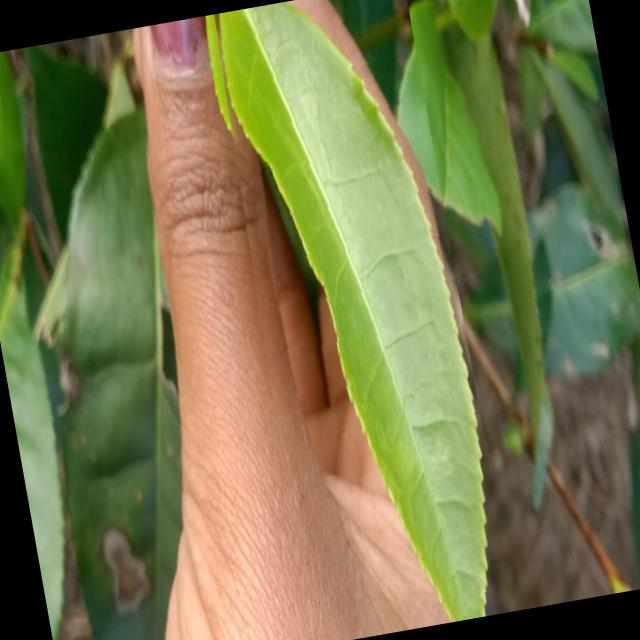Category B(2-4 days): (198, 0, 513, 640)
